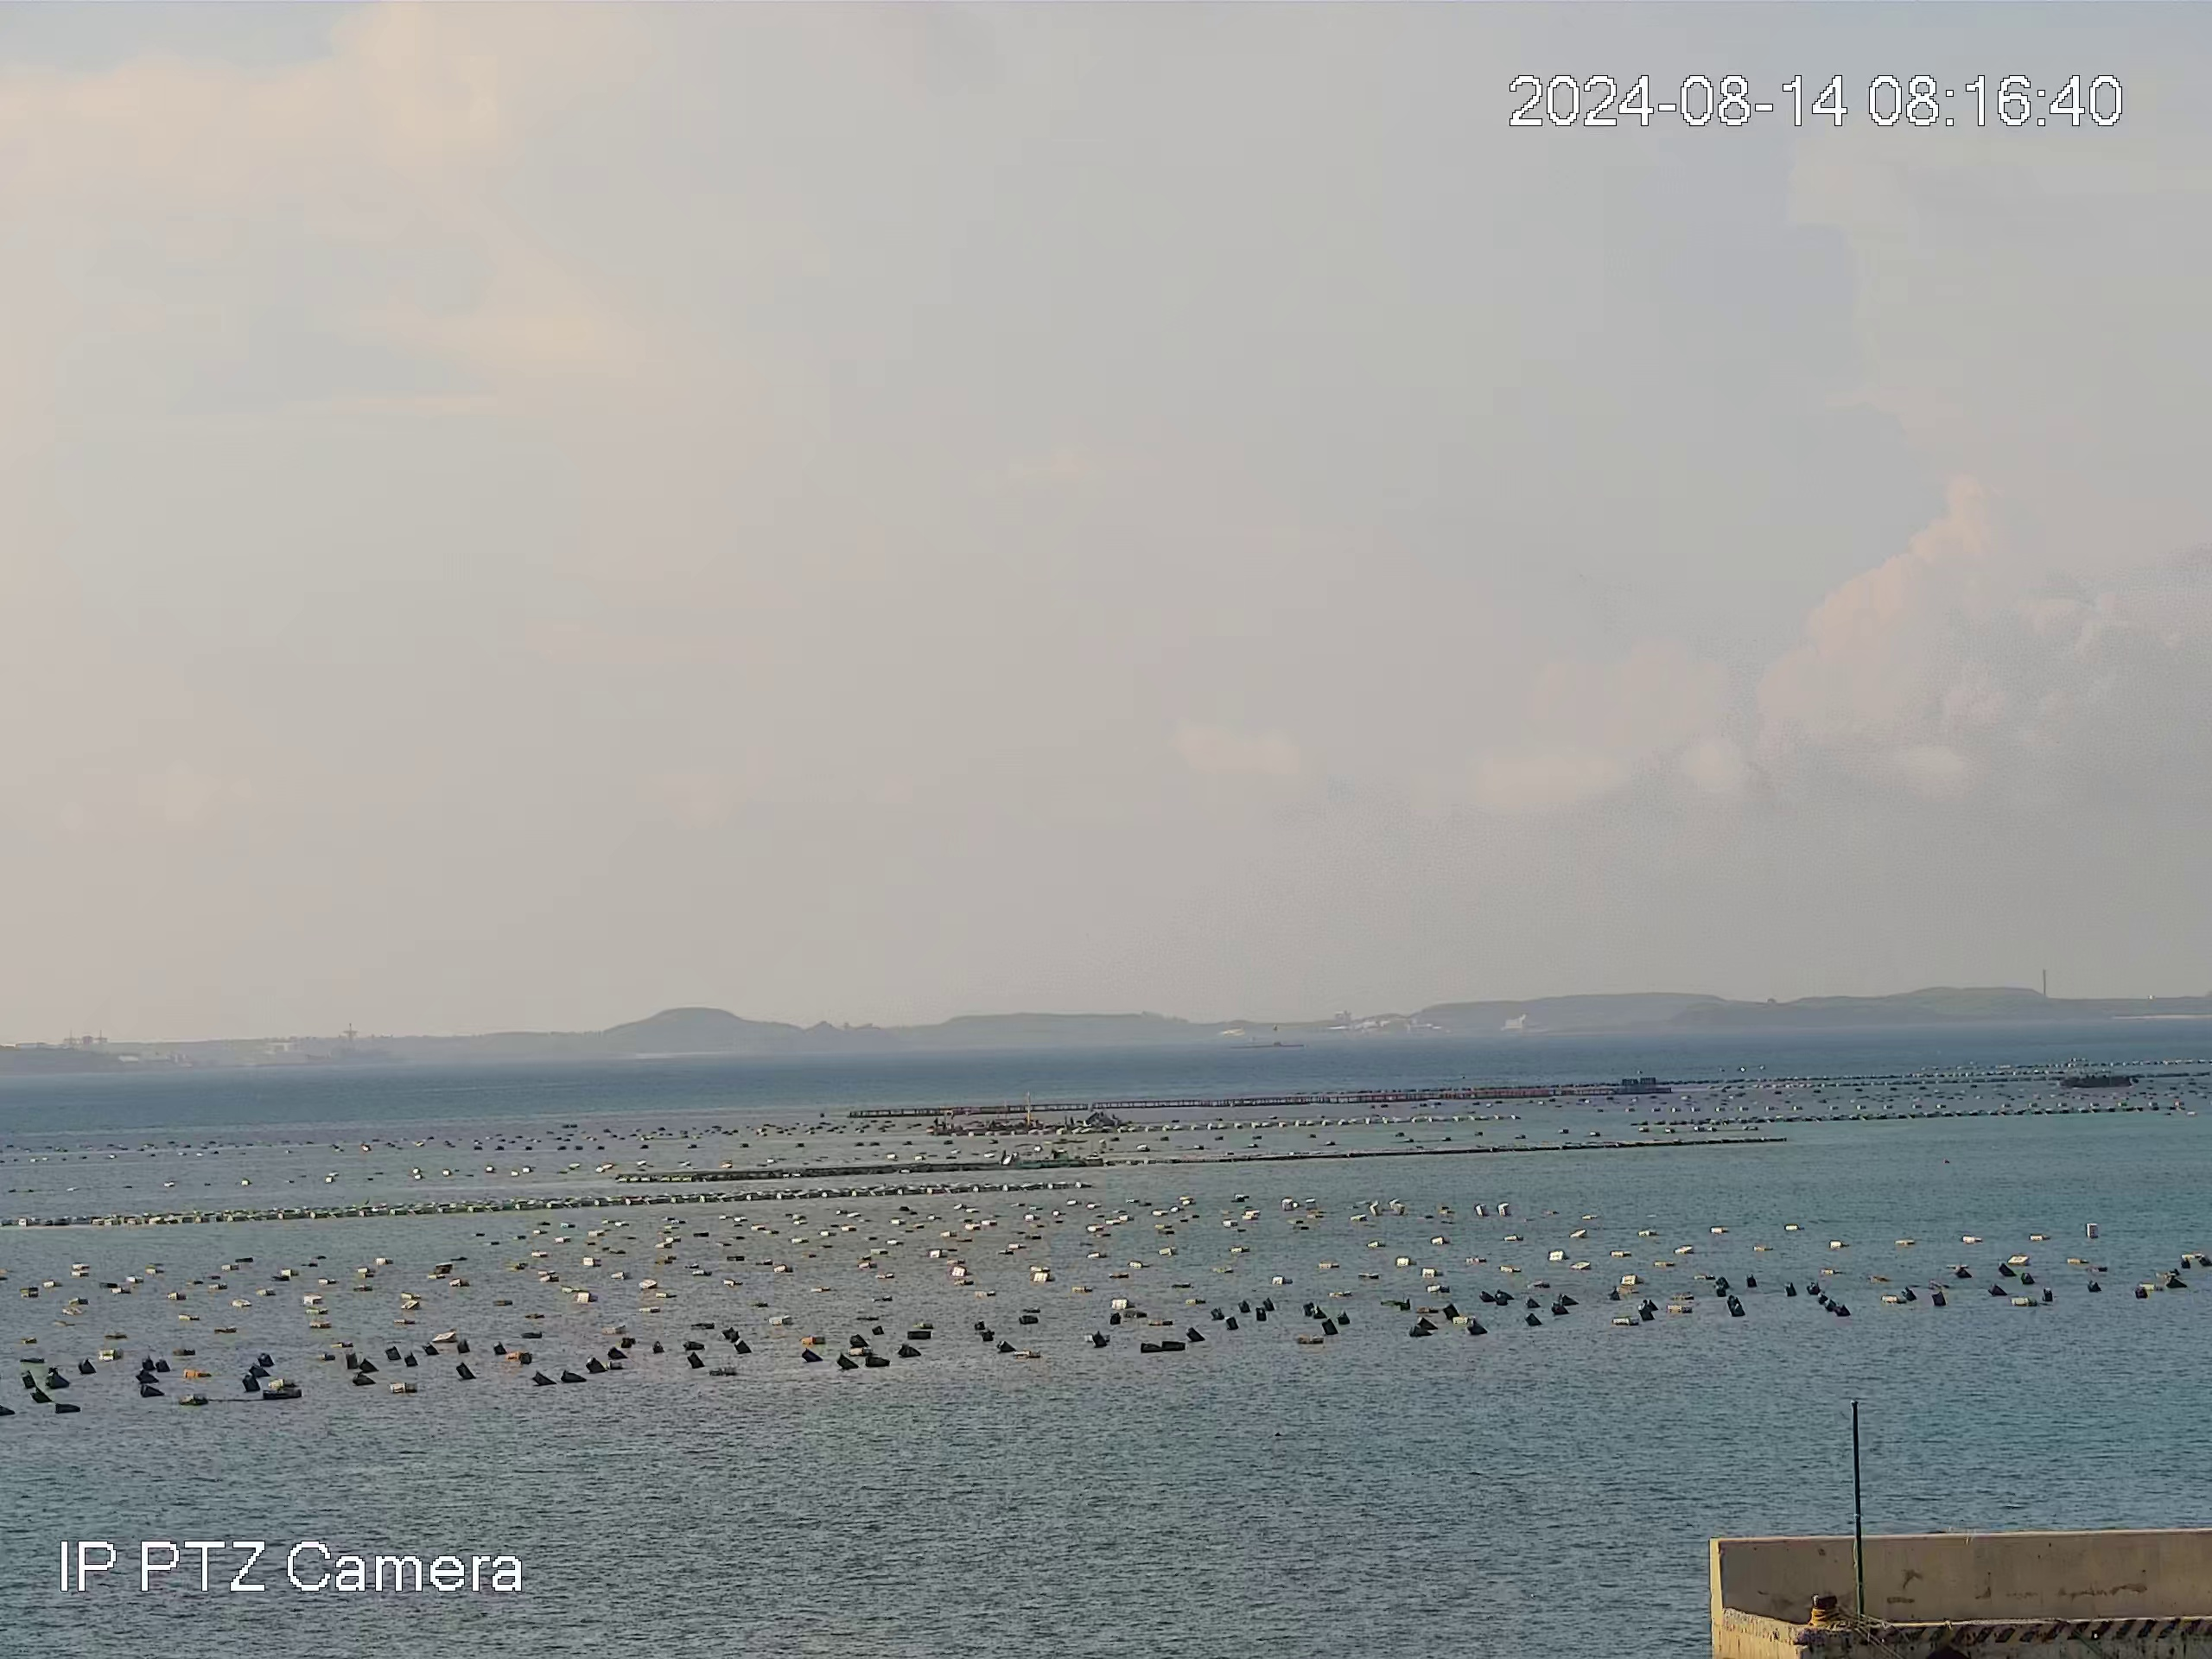boat: (1001, 1136, 1100, 1168), (2063, 1066, 2137, 1091), (927, 1110, 970, 1136)
